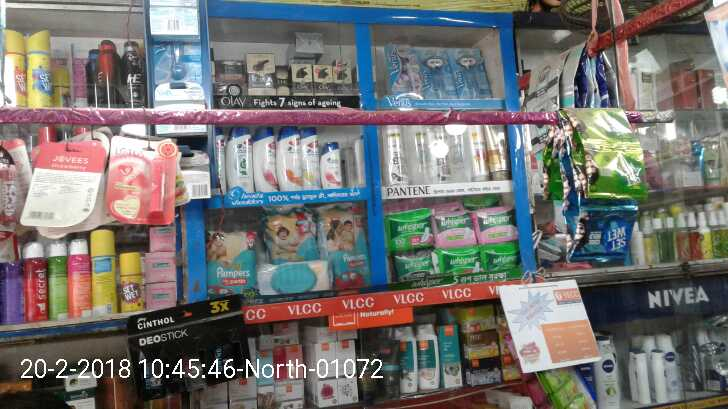venus: (454, 42, 486, 100), (419, 47, 454, 100), (391, 47, 419, 95)
